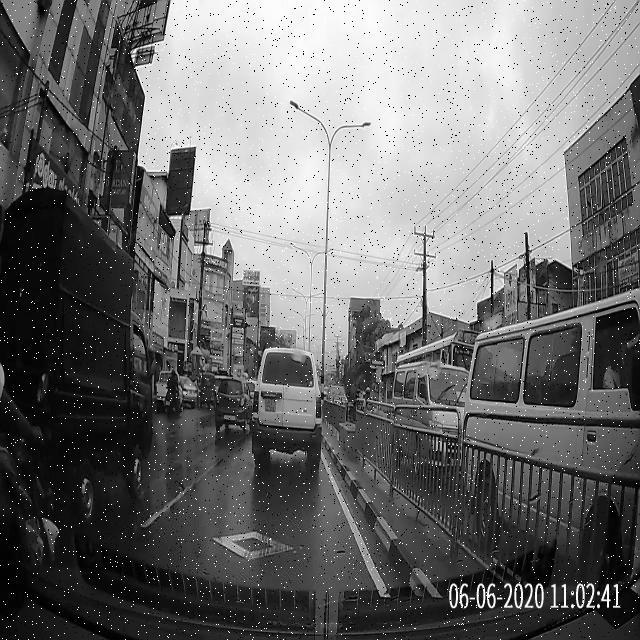diamond: (122, 513, 384, 579)
